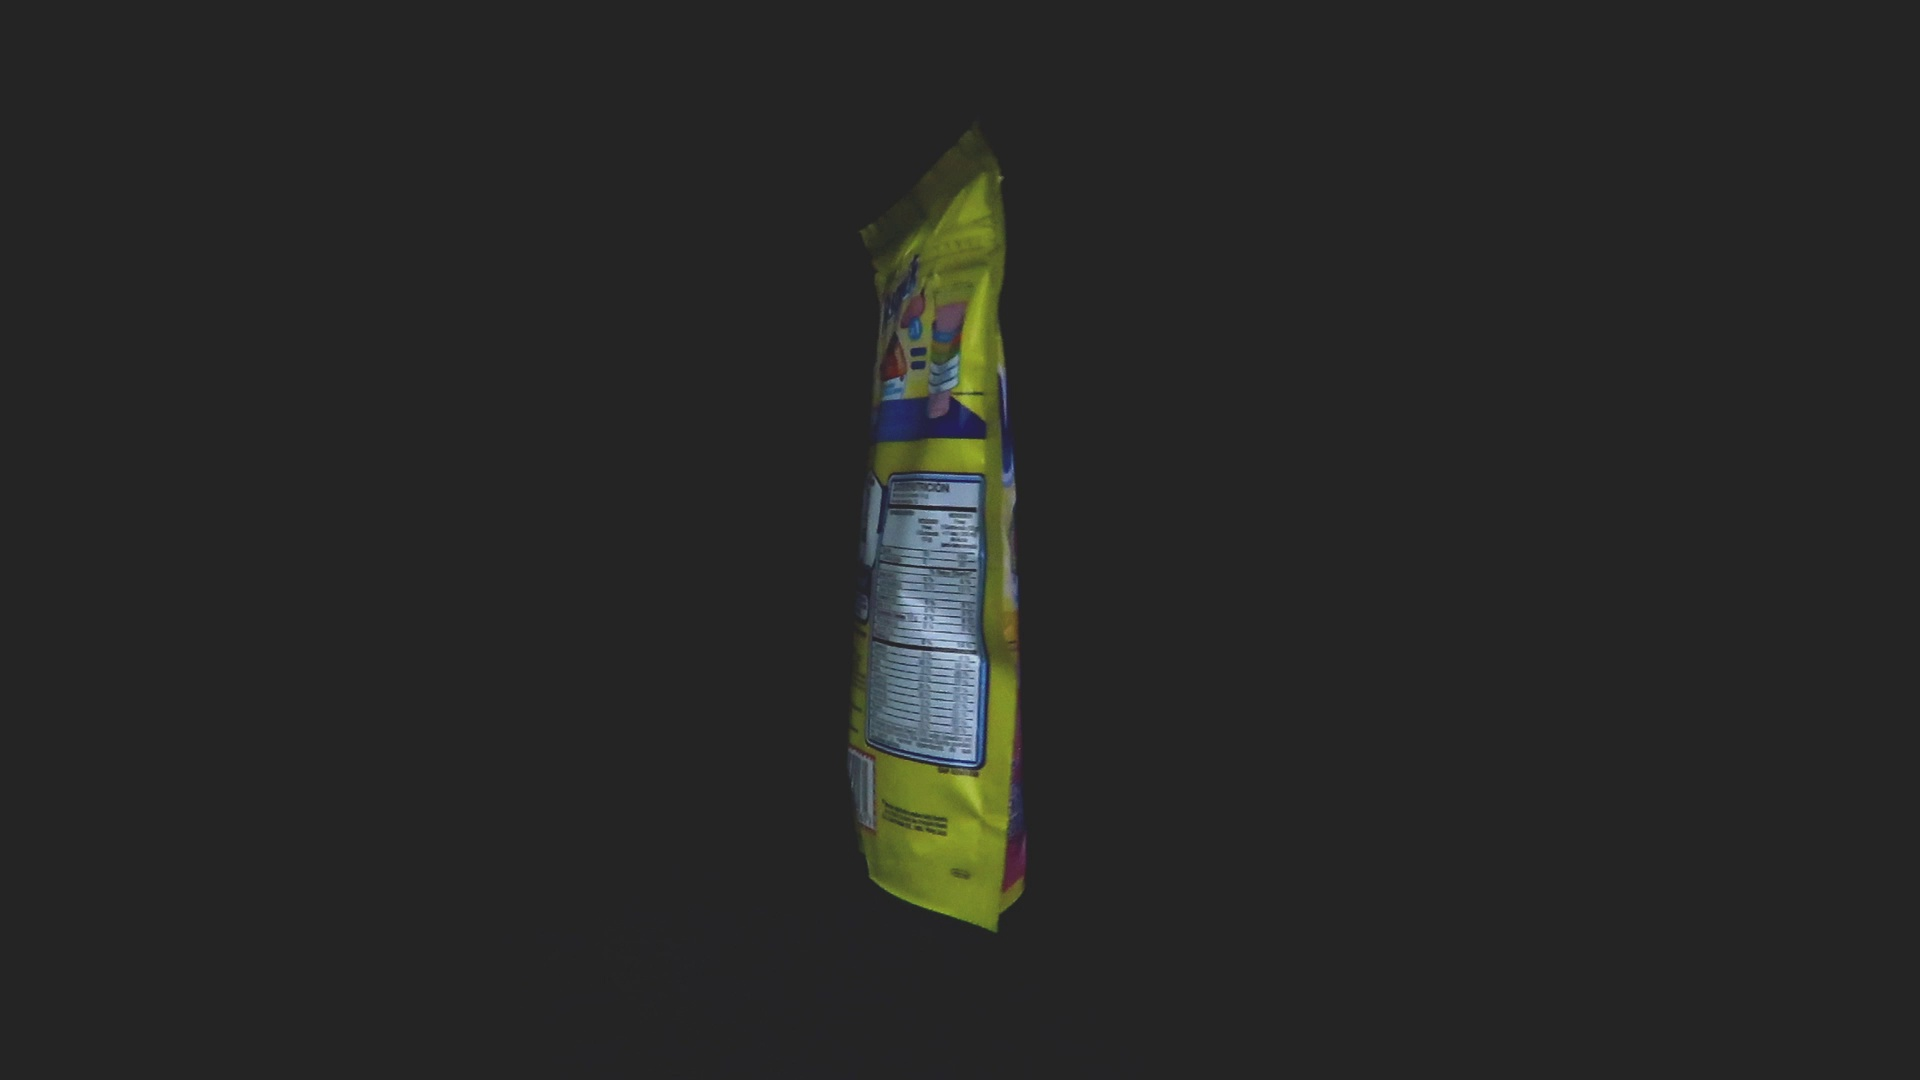COL0170305DYP20000: (843, 170, 1034, 939)
